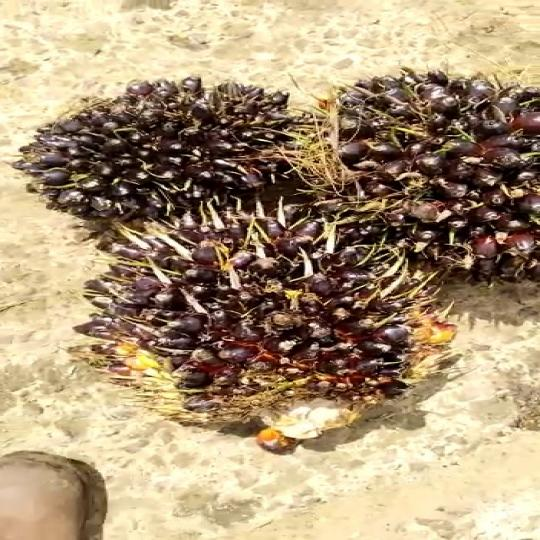mentah: (88, 200, 446, 456), (7, 63, 350, 226), (308, 63, 540, 292)
